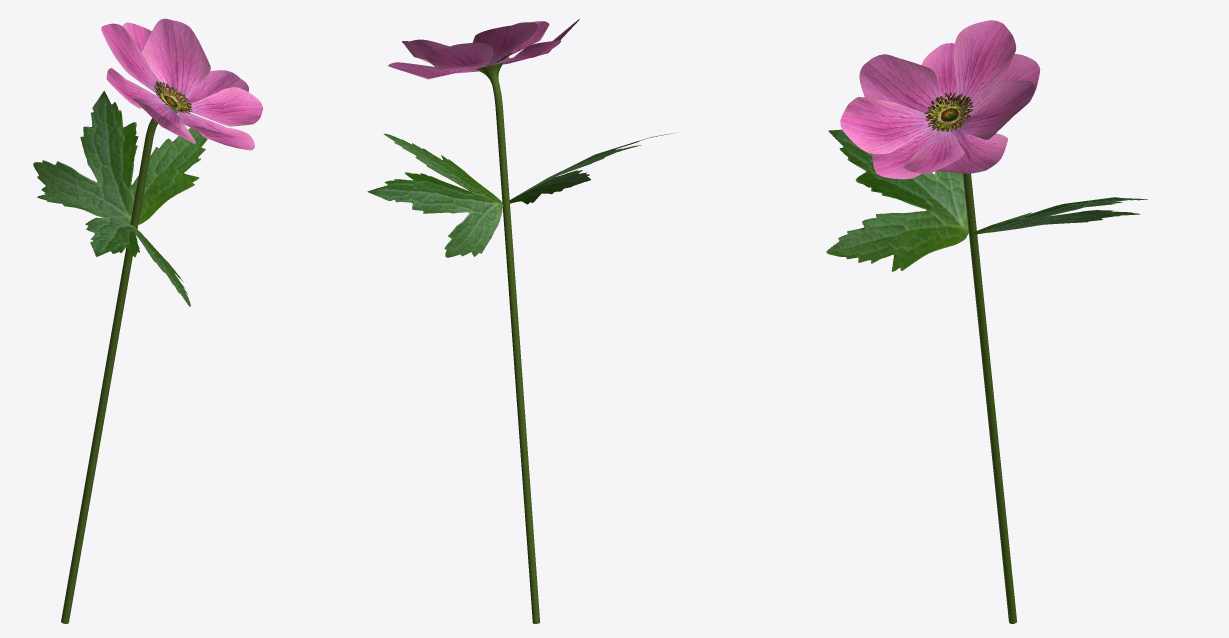
The picture shows the model from 3 angles, left to right: view 1: azimuth 30°, elevation 25°; view 2: azimuth 150°, elevation 25°; view 3: azimuth 270°, elevation 25°; orthographic projection. The views are drawn at different scales.
Parts seen in each view (by area): view 1: Cylinder.001; view 2: Cylinder.001; view 3: Cylinder.001.
Boxes of the visible parts, x1,y1,x2,y2 form: Cylinder.001: (33,18,262,623); Cylinder.001: (367,19,676,623); Cylinder.001: (826,20,1147,623).
Size of the model in its own units: 901 by 1652 by 1124.
1 material, 1 textured.
